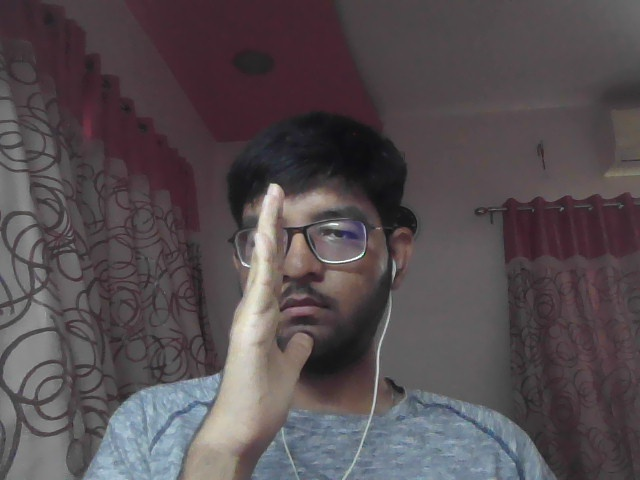માતા: (176, 165, 348, 466)
